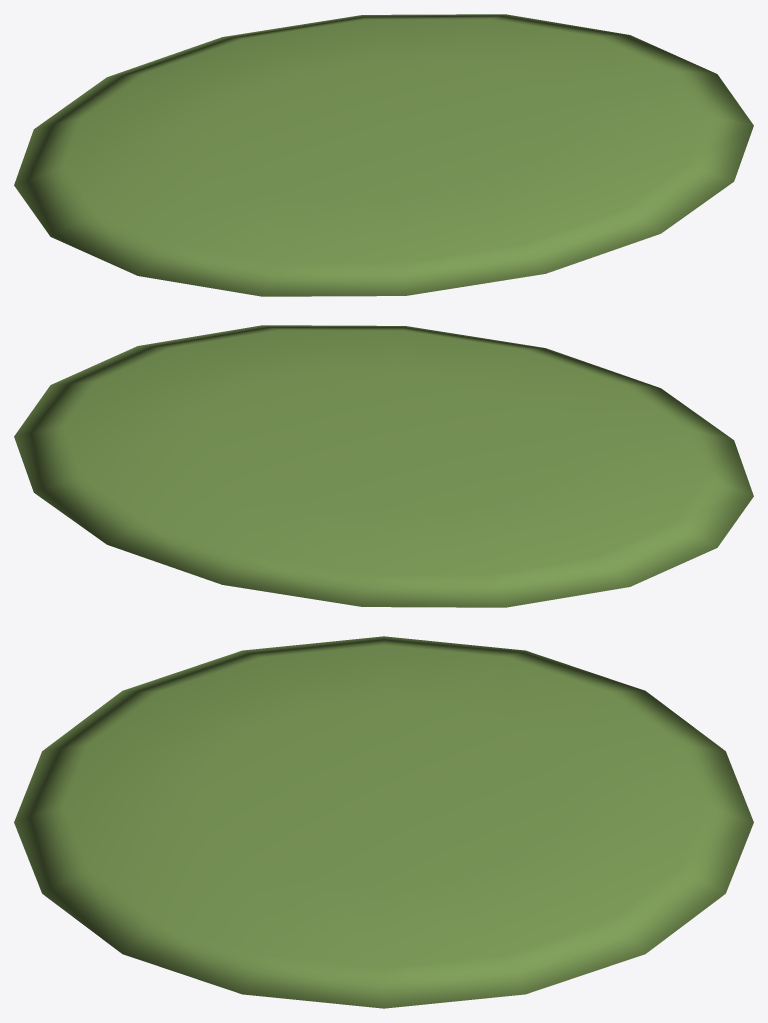
Rendered from lily.glb.
The picture shows the model from 3 angles, top to bottom: view 1: azimuth 30°, elevation 25°; view 2: azimuth 150°, elevation 25°; view 3: azimuth 270°, elevation 25°; orthographic projection. The views are drawn at different scales.
Parts seen in each view (by area): view 1: body; view 2: body; view 3: body.
Part boxes in pixels (x1,y1,x2,y2): body: (14,14,753,296); body: (14,325,753,607); body: (14,636,753,1008).
Size of the model in its own units: 1 by 0.08 by 0.84.
